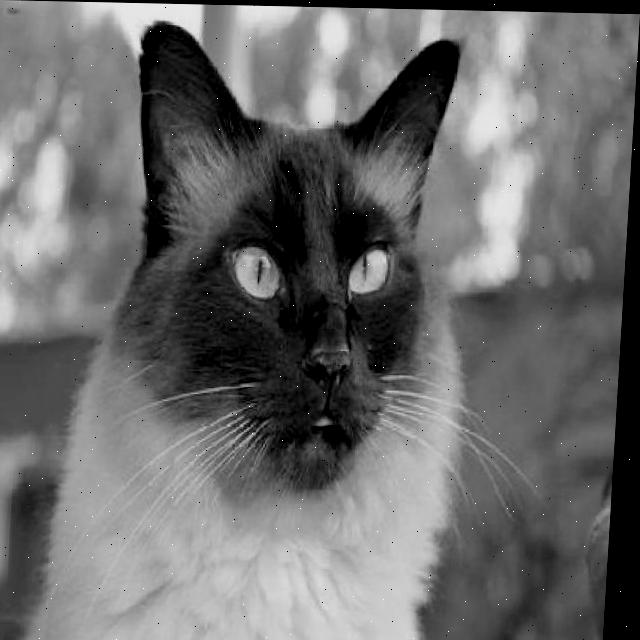Cat: (30, 18, 483, 640)
